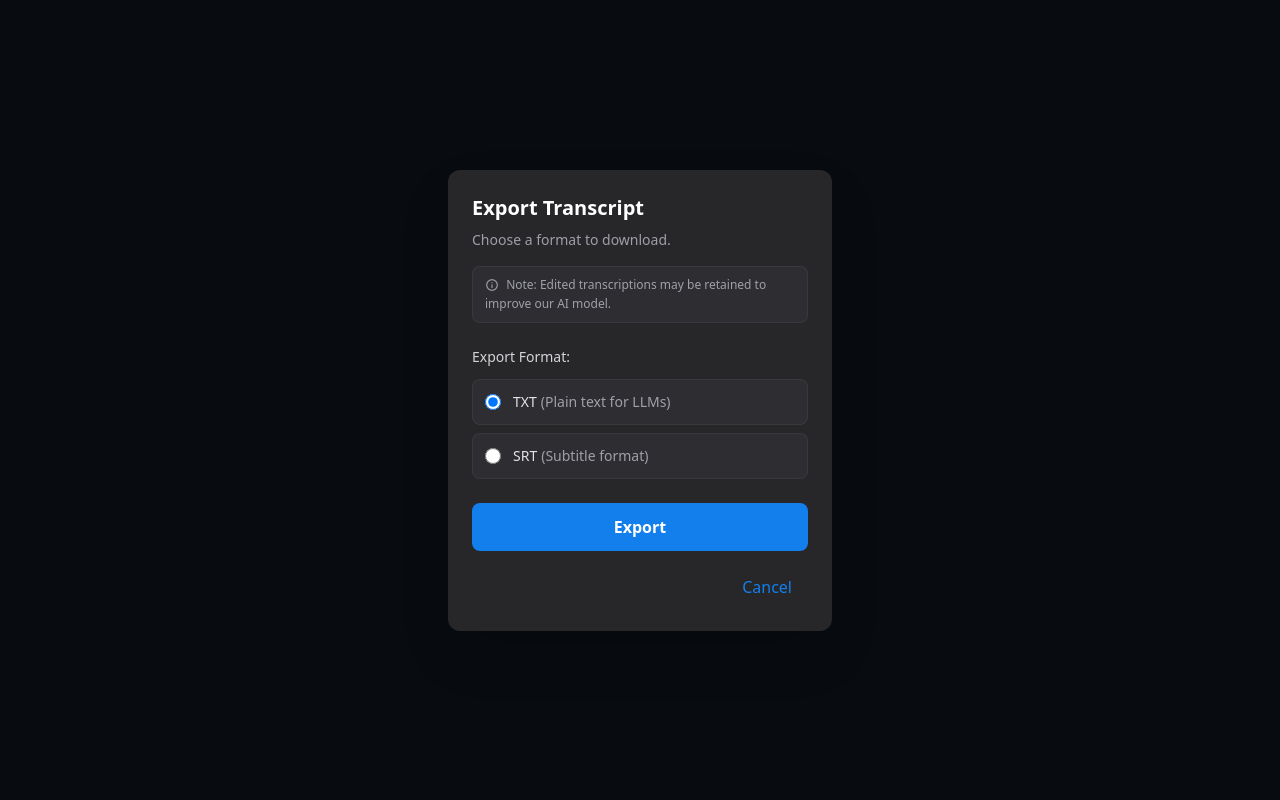
Test: ExportModal › Error Handling (AC #6) › displays error for 404 response
Click the button "Export" at [640, 526], box [472, 502, 808, 550]
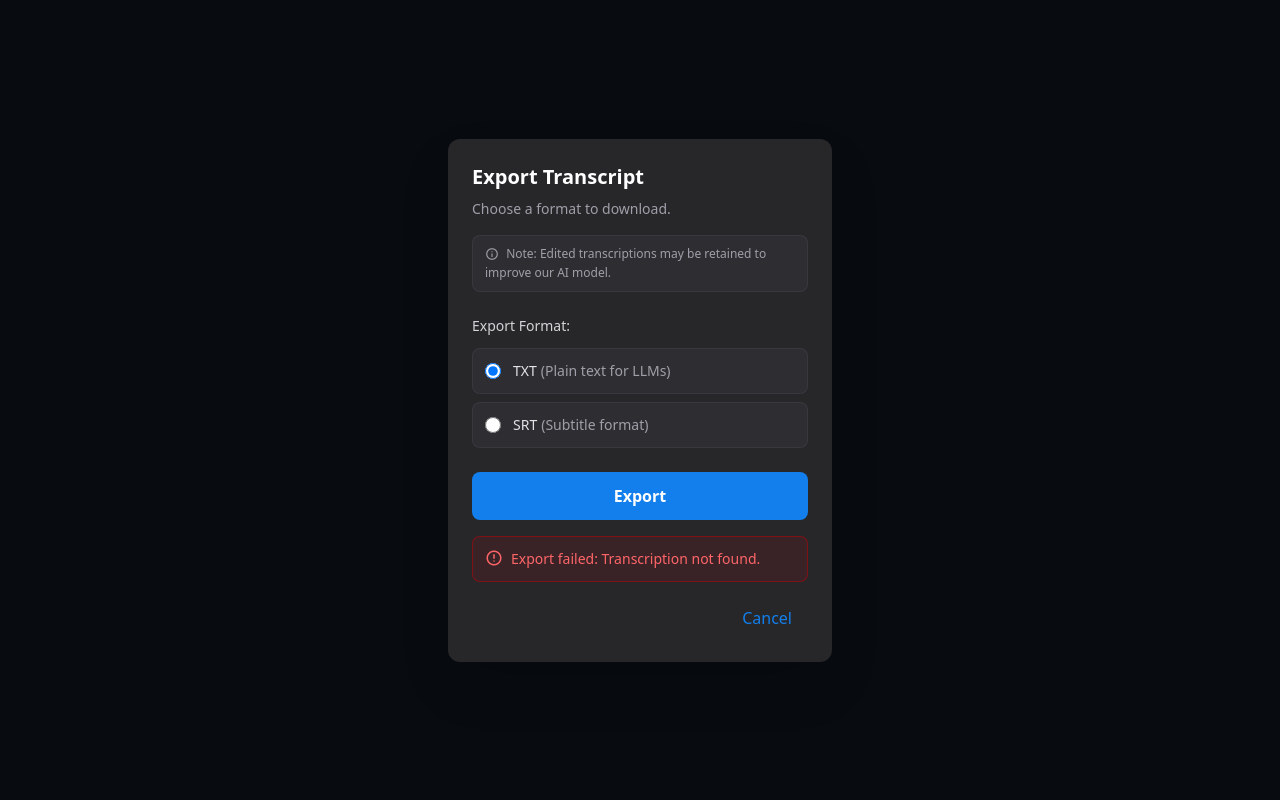
Check: the text "Export failed: Transcription not found." is shown, box [511, 548, 760, 568]
